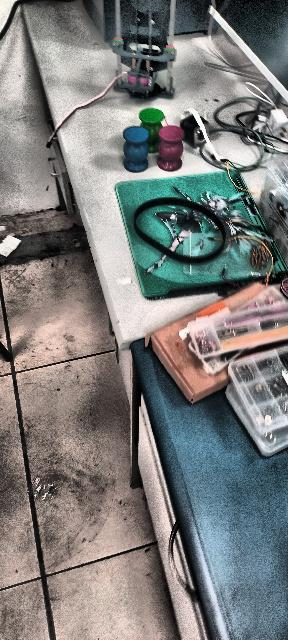blue: (120, 126, 149, 172)
green: (136, 110, 165, 153)
red: (157, 122, 186, 168)
